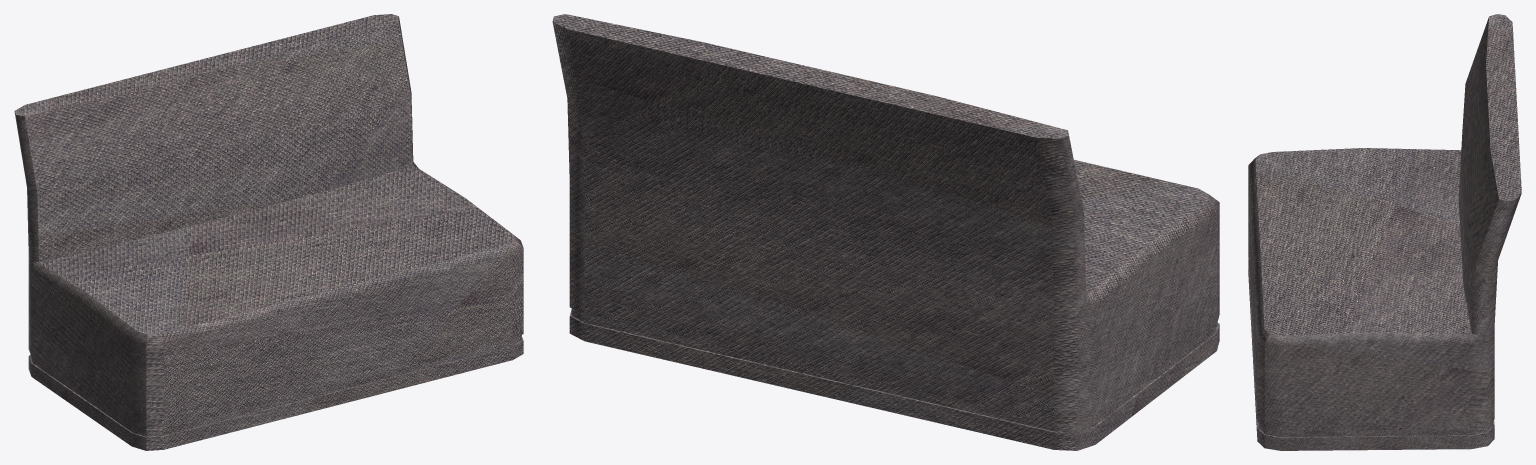
File: sofa 2.fbx
The picture shows the model from 3 angles, left to right: view 1: azimuth 30°, elevation 25°; view 2: azimuth 150°, elevation 25°; view 3: azimuth 270°, elevation 25°; orthographic projection. The views are drawn at different scales.
Parts seen in each view (by area): view 1: sofa2; view 2: sofa2; view 3: sofa2.
Part boxes in pixels (left/top/right/bottom): sofa2: left=14, top=14, right=523, bottom=450; sofa2: left=552, top=14, right=1219, bottom=450; sofa2: left=1248, top=14, right=1521, bottom=450.
Size of the model in its own units: 186 by 111 by 112.
1 material, 1 textured.
